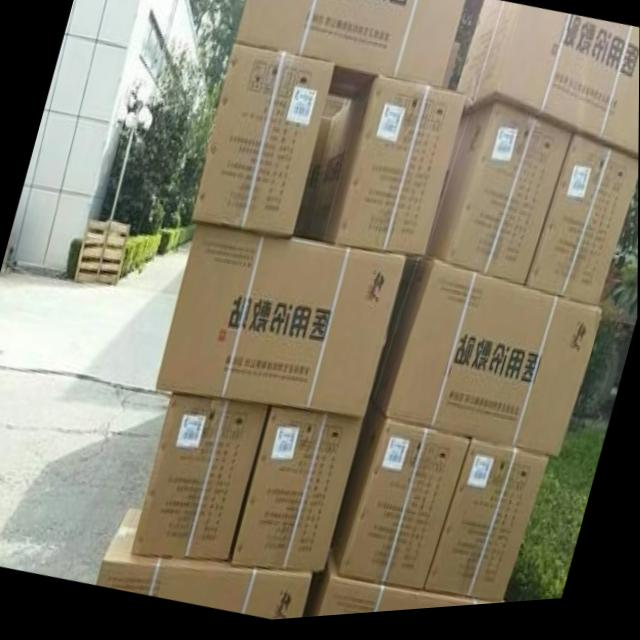box: (156, 223, 407, 421), (369, 262, 603, 469), (297, 82, 466, 264), (455, 6, 640, 166), (193, 47, 336, 240), (427, 108, 574, 293), (330, 405, 471, 596), (97, 509, 314, 623), (132, 394, 271, 566), (235, 0, 467, 103), (233, 407, 363, 579), (424, 446, 552, 608), (523, 140, 639, 316), (305, 552, 505, 622)
